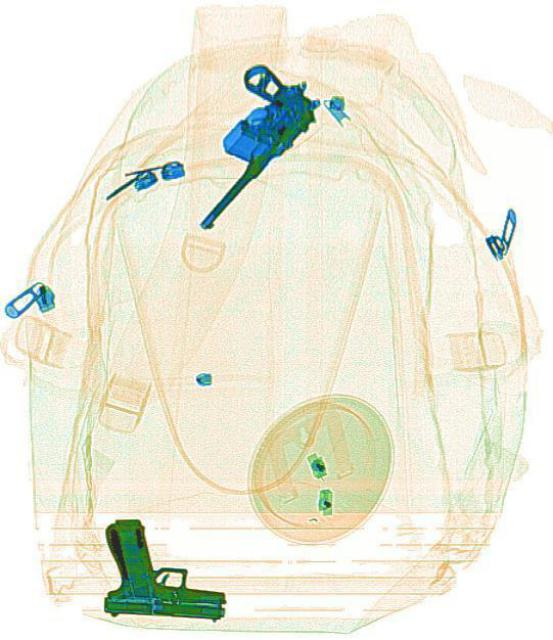Gun: (149, 46, 326, 240), (97, 518, 227, 620)
